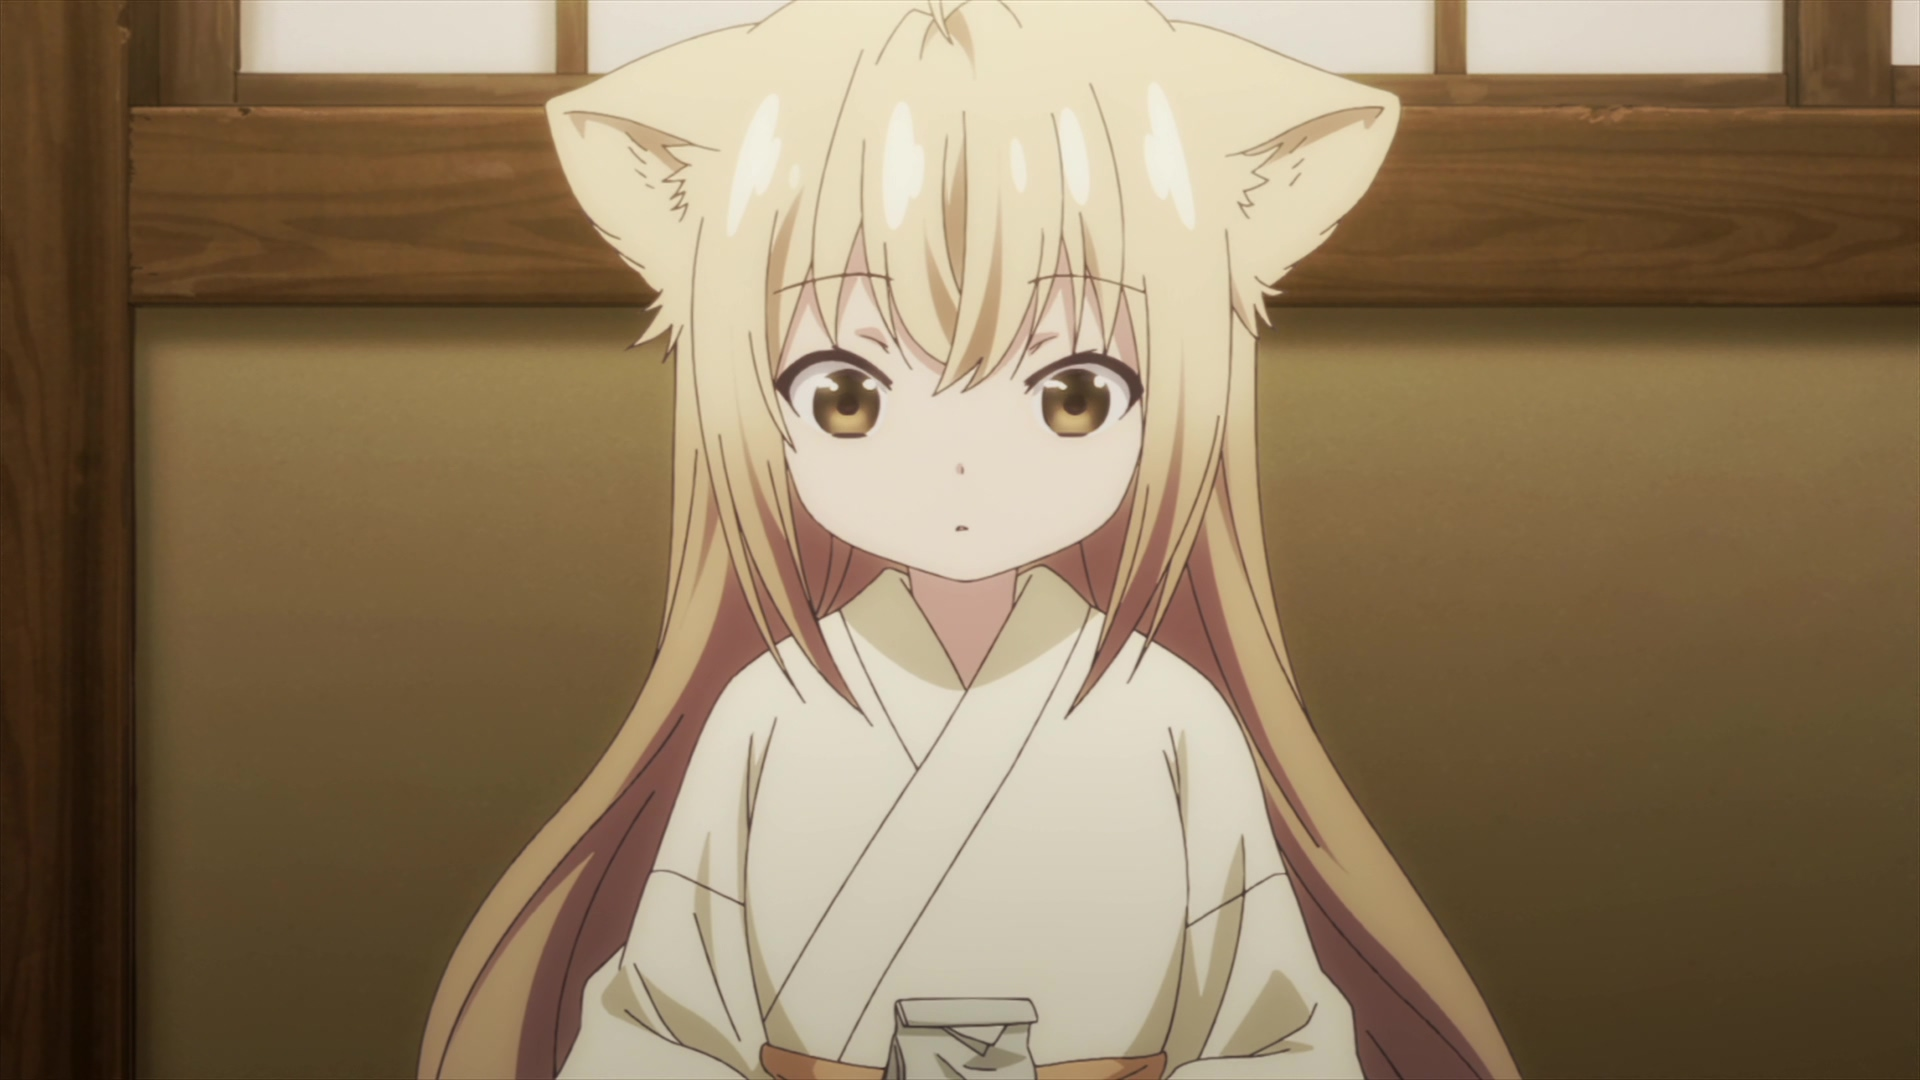柚: (419, 1, 1516, 1080)
